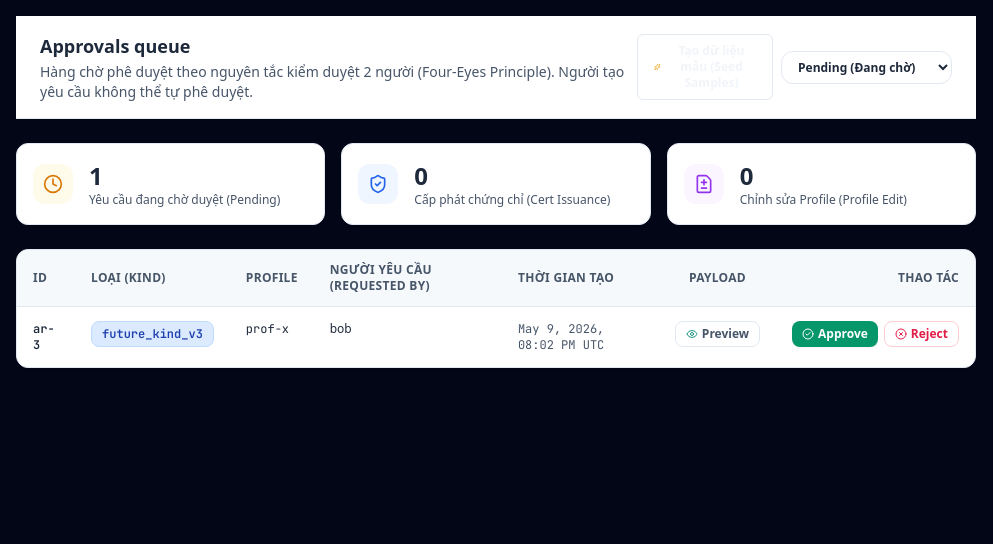
ApprovalsPage › A-5 Unknown kind falls back to generic JSON pre block
The image size is (993, 544).
Click the button with test id "approvals-preview-toggle-ar-3" at {"x": 717, "y": 334}, box [675,321,760,347]
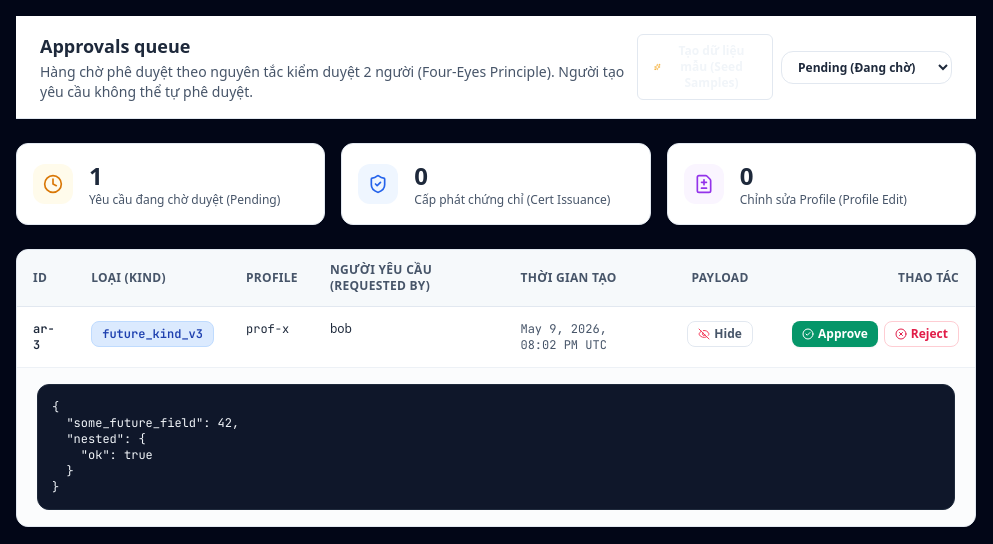
Check: the text with test id "approval-payload-generic-json" shows "some_future_field", box [52,399,239,495]
Check: the text with test id "approval-payload-generic-json" shows "42", box [52,399,239,495]
